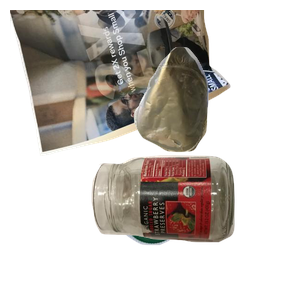glass: (89, 153, 300, 300)
paper: (10, 10, 233, 158)
plastic: (110, 164, 300, 300)
trash: (131, 44, 300, 189)
